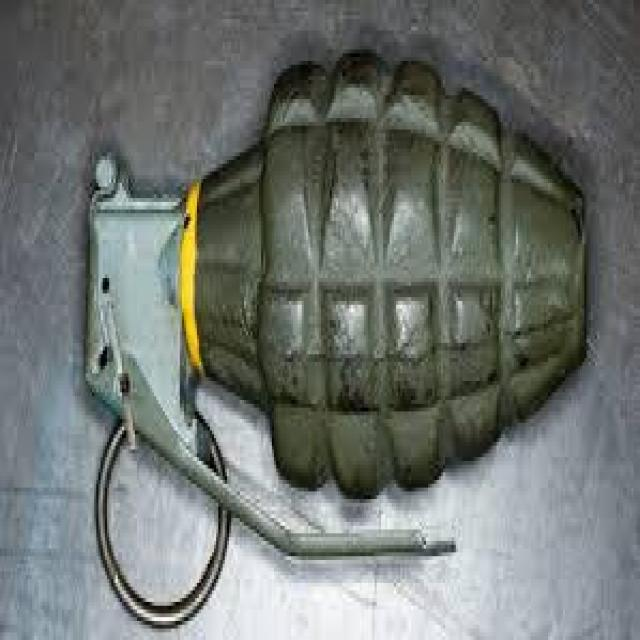grenade: (72, 42, 586, 621)
